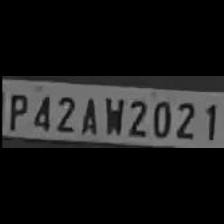0: (147, 98, 171, 138)
1: (199, 100, 221, 140)
2: (171, 98, 197, 140), (124, 95, 148, 138), (51, 92, 75, 132)
4: (28, 91, 52, 131)
A: (76, 93, 98, 134)
P: (3, 90, 27, 130)
W: (98, 93, 124, 136)
